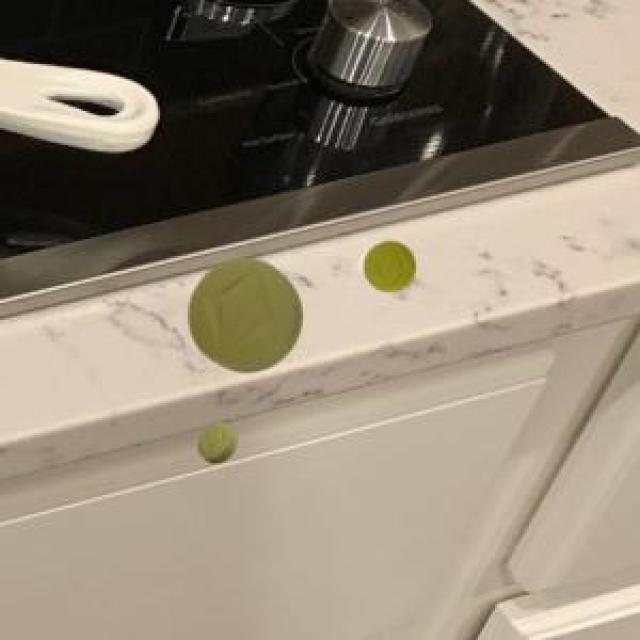Decolgen: (185, 249, 308, 378), (354, 232, 428, 301), (183, 412, 253, 474)
